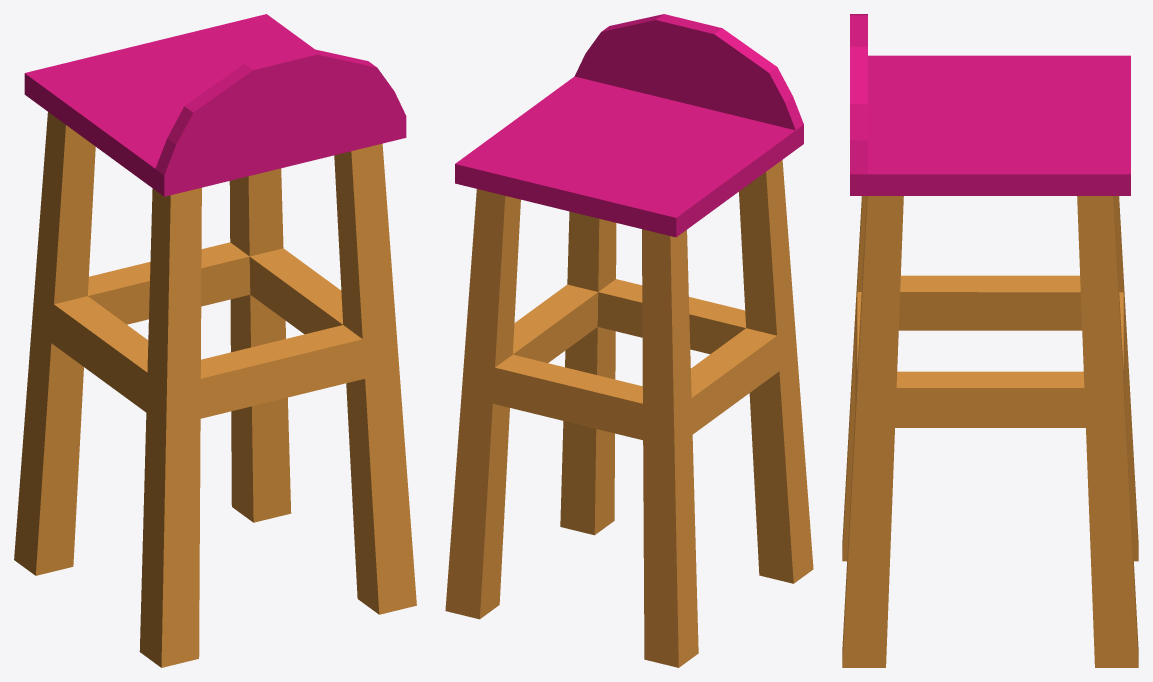
File: bar_stool.fbx
3 renders of one model, left to right at view 1: azimuth 30°, elevation 25°; view 2: azimuth 150°, elevation 25°; view 3: azimuth 270°, elevation 25°, orthographic. The views are drawn at different scales.
Parts seen in each view (by area): view 1: Plane; view 2: Plane; view 3: Plane.
Boxes of the visible parts, x1,y1,x2,y2 form: Plane: (14,14,416,667); Plane: (445,14,813,667); Plane: (842,14,1138,667).
Size of the model in its own units: 32.86 by 70.27 by 32.86.
